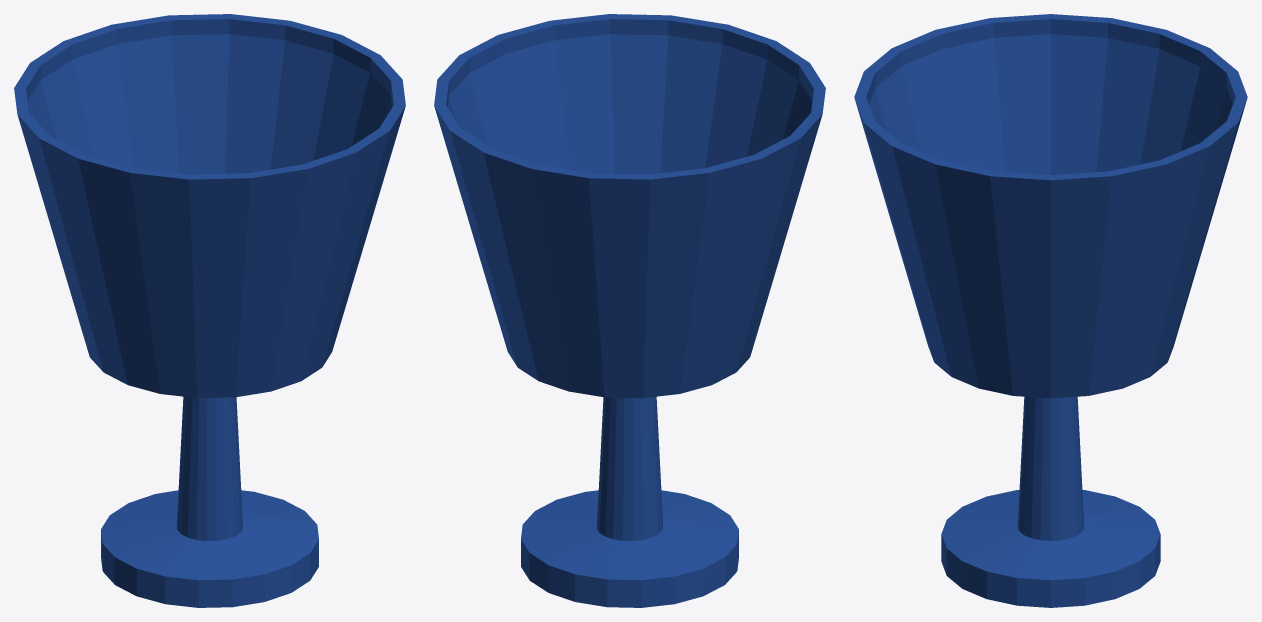
File: cupwhole.fbx
3 renders of one model, left to right at view 1: azimuth 30°, elevation 25°; view 2: azimuth 150°, elevation 25°; view 3: azimuth 270°, elevation 25°, orthographic.
Parts seen in each view (by area): view 1: cup; view 2: cup; view 3: cup.
Part boxes in pixels (bbox=[...]): cup: bbox=[14, 14, 405, 607]; cup: bbox=[434, 14, 825, 607]; cup: bbox=[854, 14, 1247, 607].
Size of the model in its own units: 23.94 by 31.17 by 23.94.
